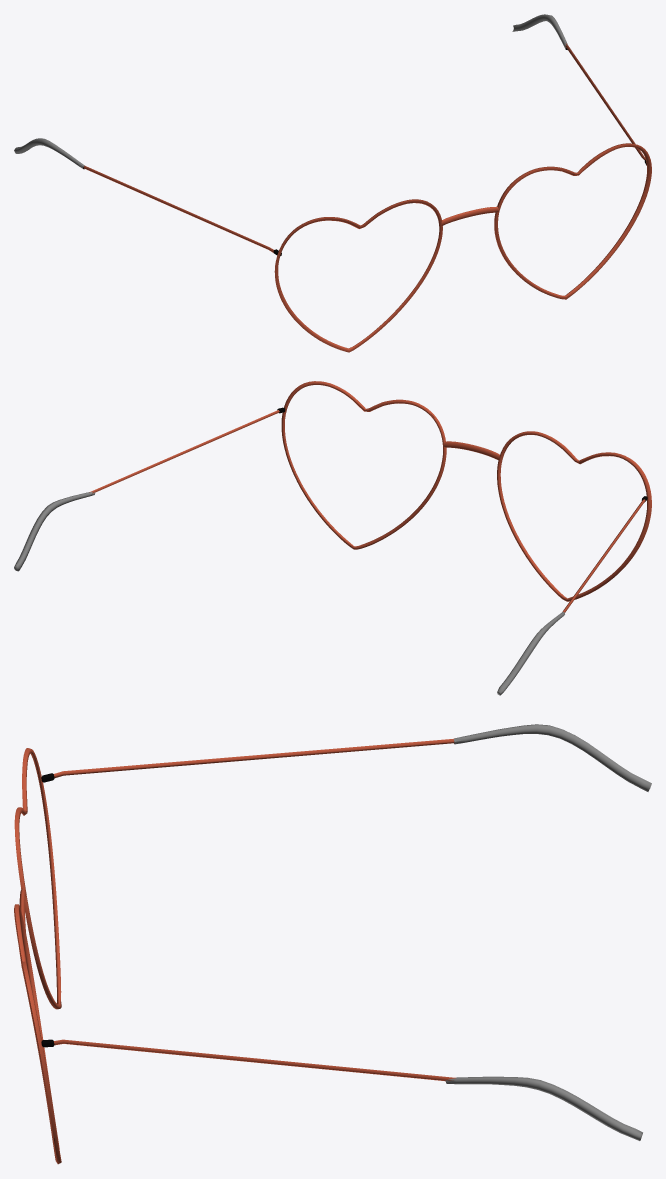
The model's file is Glasses_Girl.fbx.
The picture shows the model from 3 angles, top to bottom: view 1: azimuth 30°, elevation 25°; view 2: azimuth 150°, elevation 25°; view 3: azimuth 270°, elevation 25°; orthographic projection. The views are drawn at different scales.
Parts seen in each view (by area): view 1: Glasses; view 2: Glasses; view 3: Glasses.
Part boxes in pixels (bbox=[...]): Glasses: bbox=[14, 14, 651, 352]; Glasses: bbox=[14, 381, 651, 695]; Glasses: bbox=[14, 724, 651, 1164].
Bounding box in the file's own units: 50.54 × 14.45 × 37.31.
1 material, 1 textured.
